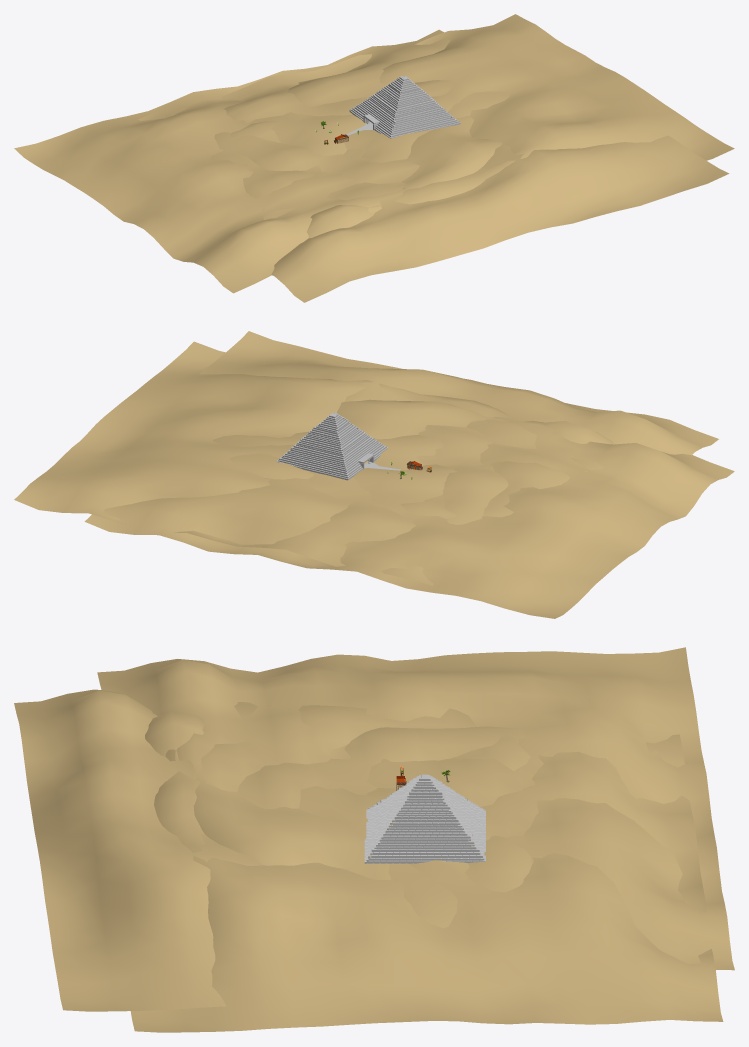
The model's file is Desert_Env.fbx.
3 views of the same model, one above another, from view 1: azimuth 30°, elevation 25°; view 2: azimuth 150°, elevation 25°; view 3: azimuth 270°, elevation 25° (orthographic). The views are drawn at different scales.
Visible parts, largest first — view 1: Desert1, Pyramid; view 2: Desert1, Pyramid; view 3: Desert1, Pyramid.
Boxes of the visible parts, x1,y1,x2,y2 form: Desert1: [14, 14, 734, 302]; Pyramid: [346, 75, 460, 138]; Desert1: [14, 331, 734, 618]; Pyramid: [276, 413, 400, 480]; Desert1: [14, 647, 734, 1032]; Pyramid: [364, 774, 485, 863].
Bounding box in the file's own units: 5824 × 727 × 4547.
